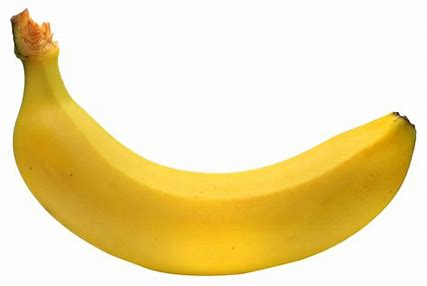banana: (9, 6, 417, 277)
